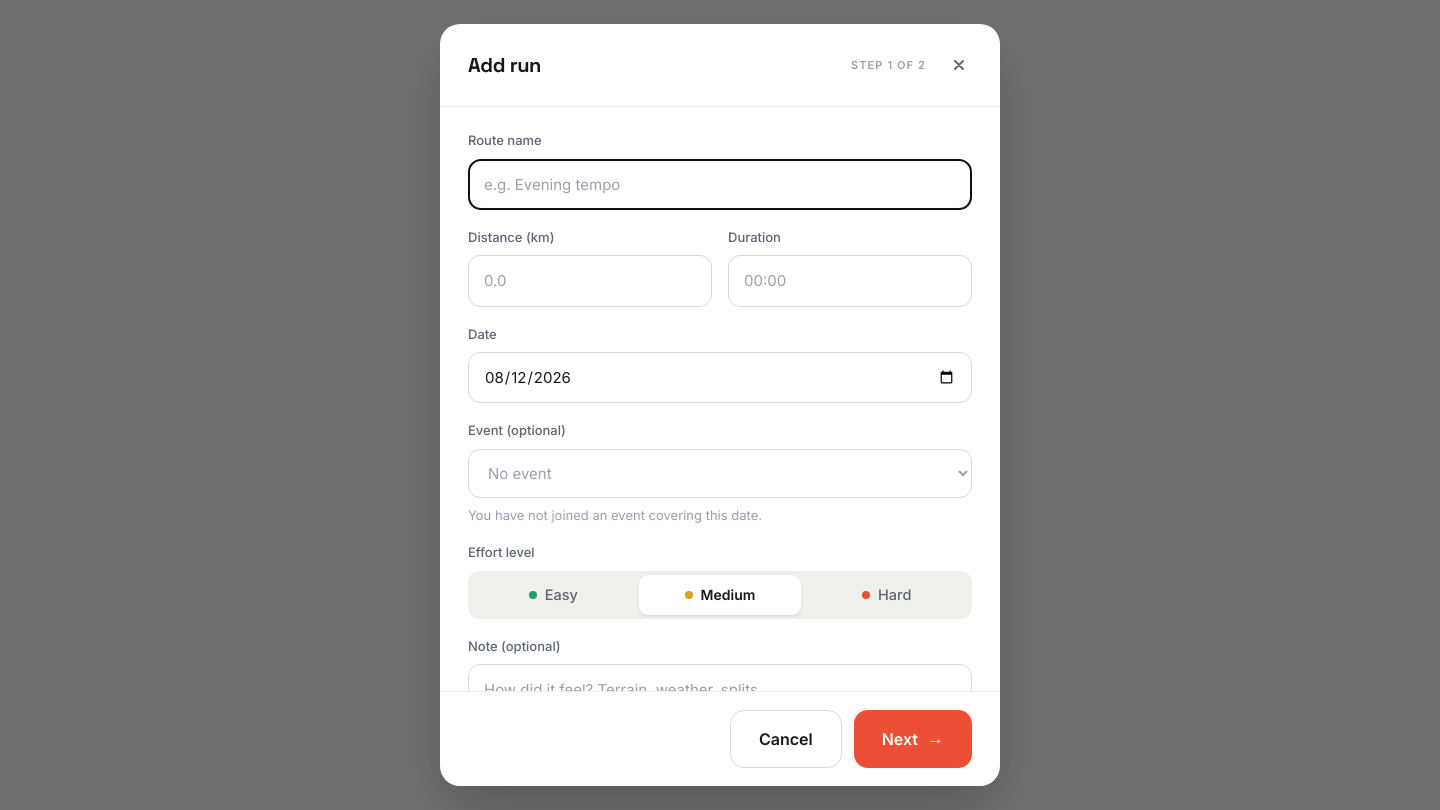
Test: Route step (RUN-54) › says nothing when the two distances agree closely enough (AC2)
In the field labelled "Route name": x=720, y=184 [468, 158, 972, 210], type "Evening tempo"
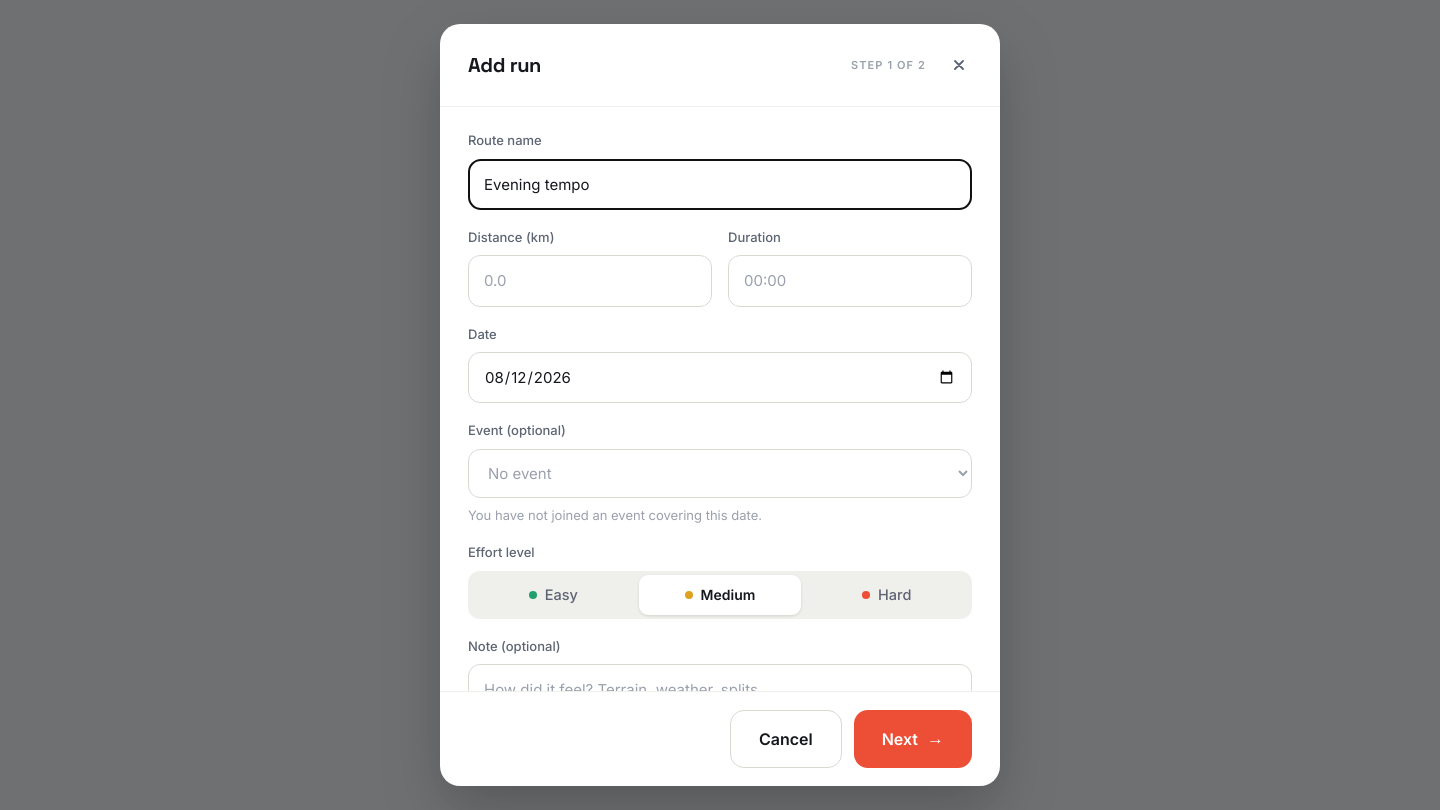
In the field labelled "Distance (km)": x=590, y=281 [468, 255, 712, 307], type "8.2"
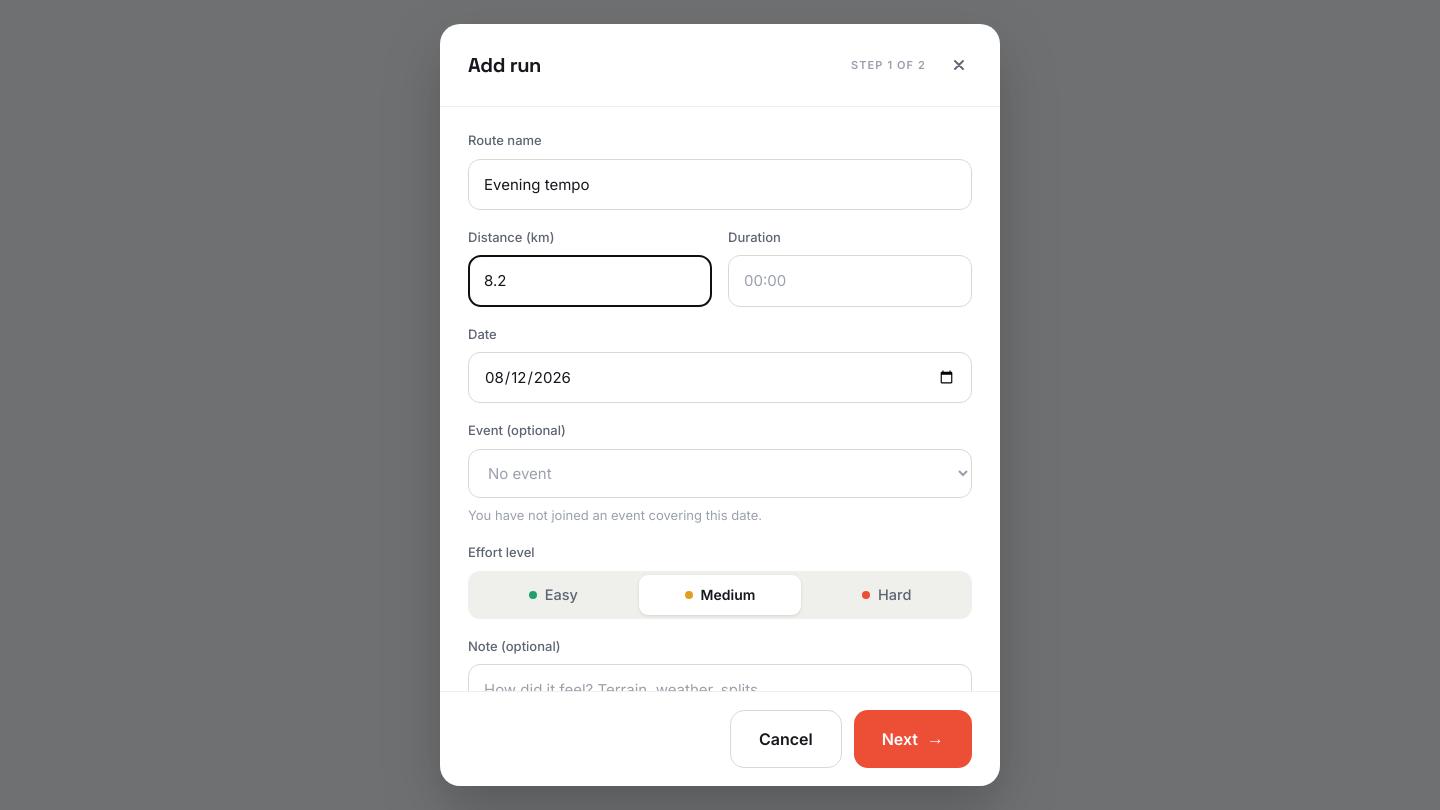
In the field labelled "Duration": x=850, y=281 [728, 255, 972, 307], type "42:15"
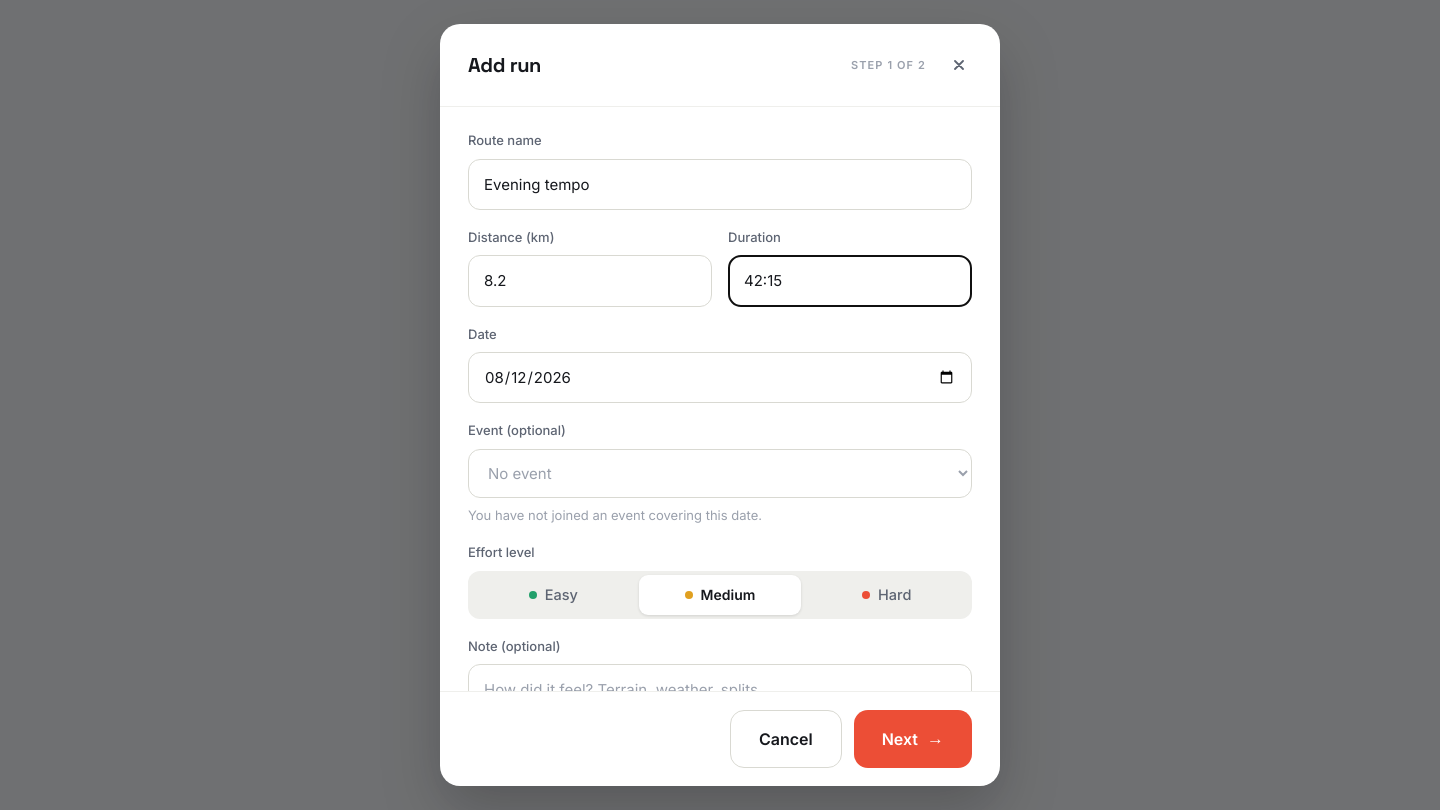
Click the button "Next →": x=913, y=739 [854, 710, 972, 768]
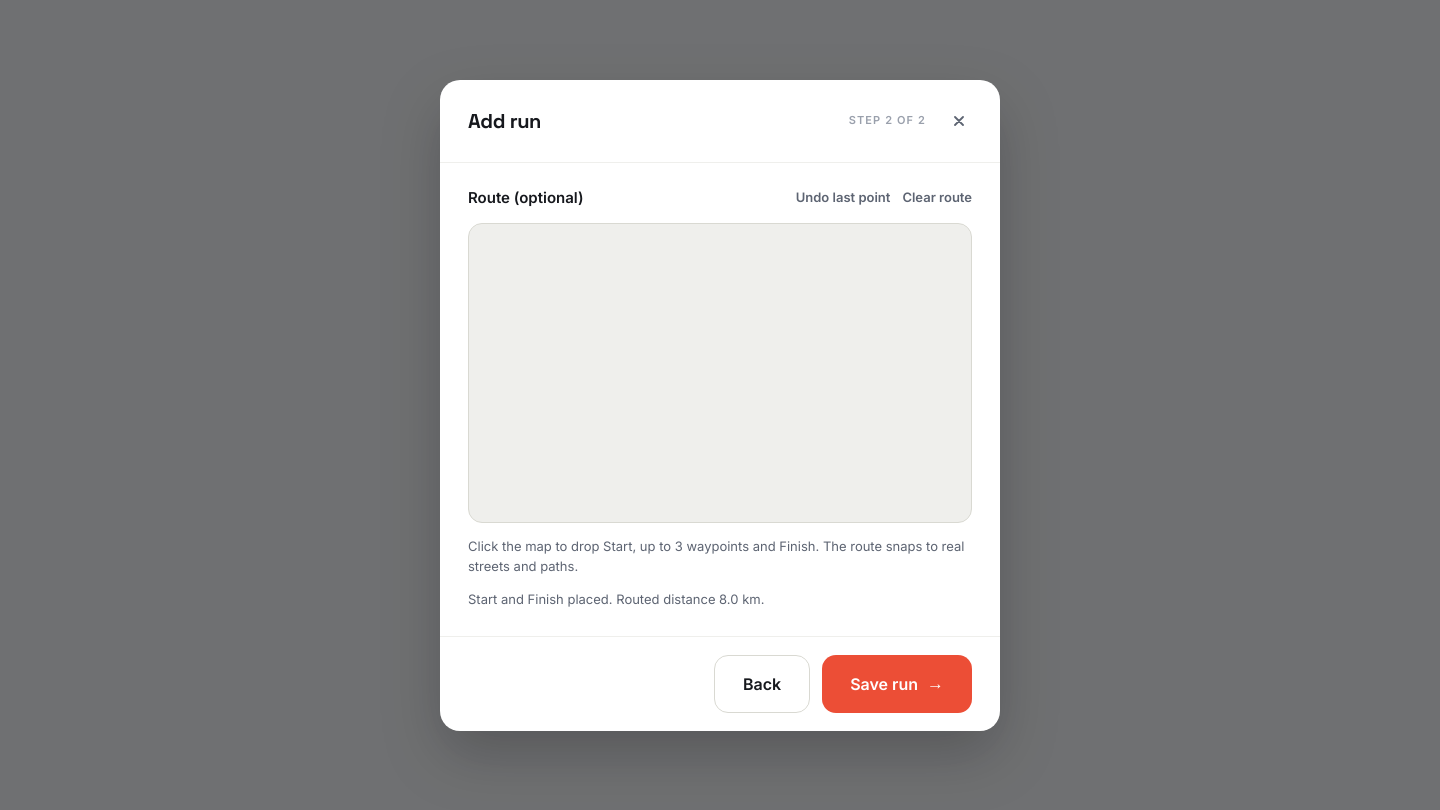
Expected: the element with test id "route-map" is shown, [468, 223, 972, 523]
